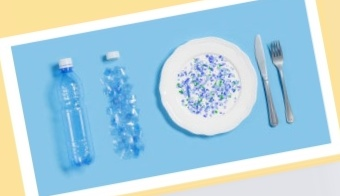plastic: (101, 51, 154, 163), (49, 59, 97, 172)
